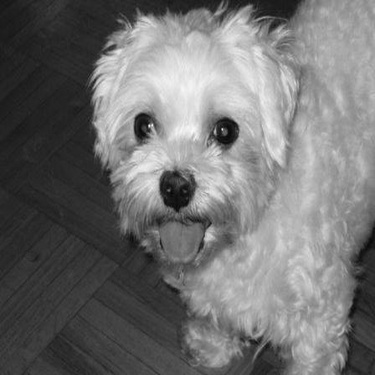dog: (82, 4, 372, 371)
